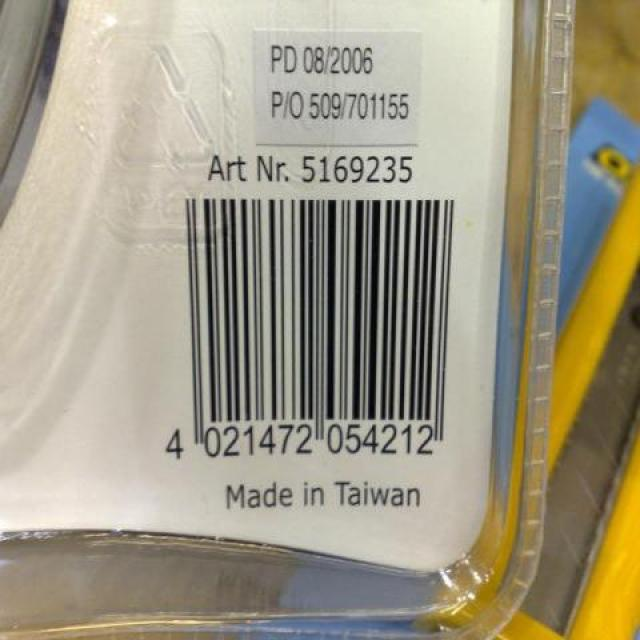Barcode: (137, 184, 471, 476)
